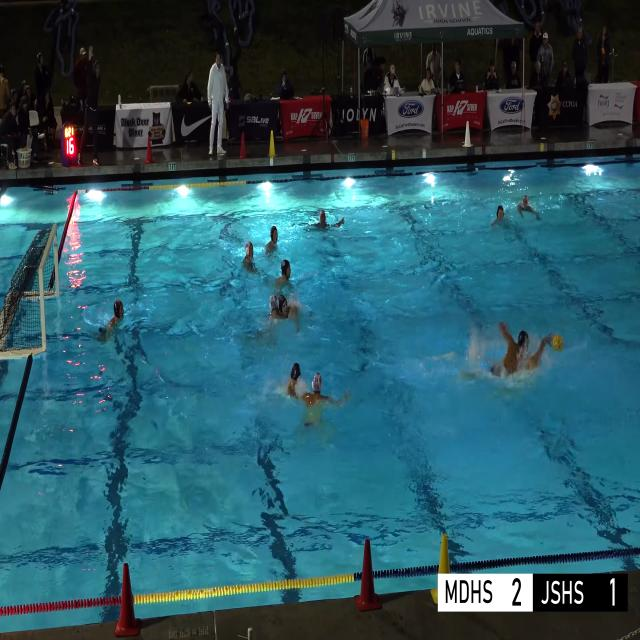ball: (552, 334, 563, 352), (22, 146, 28, 151)
